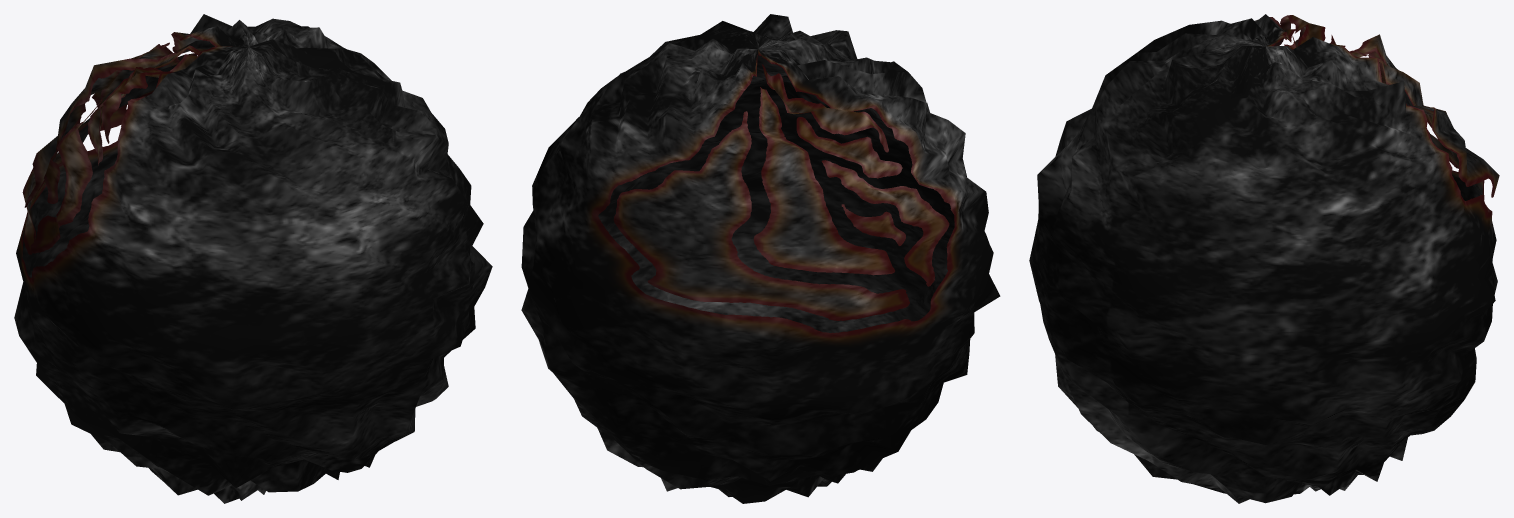
File: Rock.fbx
3 views of the same model, side by side, from view 1: azimuth 30°, elevation 25°; view 2: azimuth 150°, elevation 25°; view 3: azimuth 270°, elevation 25° (orthographic).
Parts seen in each view (by area): view 1: Ball; view 2: Ball; view 3: Ball.
Part boxes in pixels (left/top/right/bottom): Ball: left=14, top=14, right=492, bottom=503; Ball: left=521, top=14, right=1000, bottom=503; Ball: left=1029, top=14, right=1499, bottom=503.
Size of the model in its own units: 1895 by 1971 by 1880.
